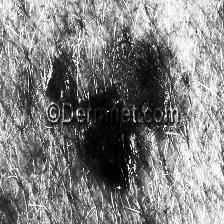Benign Marking or Mole: (44, 32, 164, 184), (75, 91, 125, 182), (111, 39, 164, 108), (47, 61, 74, 107)
